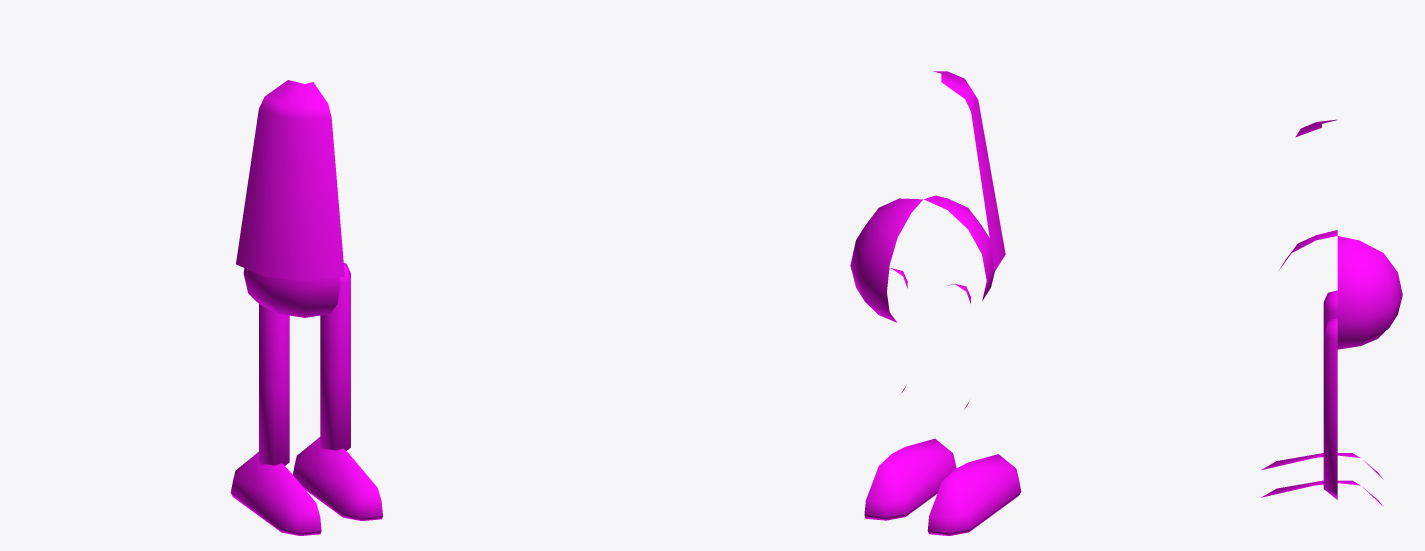
The model's file is ava_bodyA2.glb.
3 renders of one model, left to right at view 1: azimuth 30°, elevation 25°; view 2: azimuth 150°, elevation 25°; view 3: azimuth 270°, elevation 25°, orthographic. The views are drawn at different scales.
Visible parts, largest first — view 1: polygon0; view 2: polygon0; view 3: polygon0.
Part boxes in pixels (left/top/right/bottom): polygon0: left=230, top=80, right=382, bottom=535; polygon0: left=850, top=71, right=1021, bottom=535; polygon0: left=1261, top=119, right=1402, bottom=505.
Bounding box in the file's own units: 14 × 11 × 3.69.
Materials: 1 (1 with a texture image).
